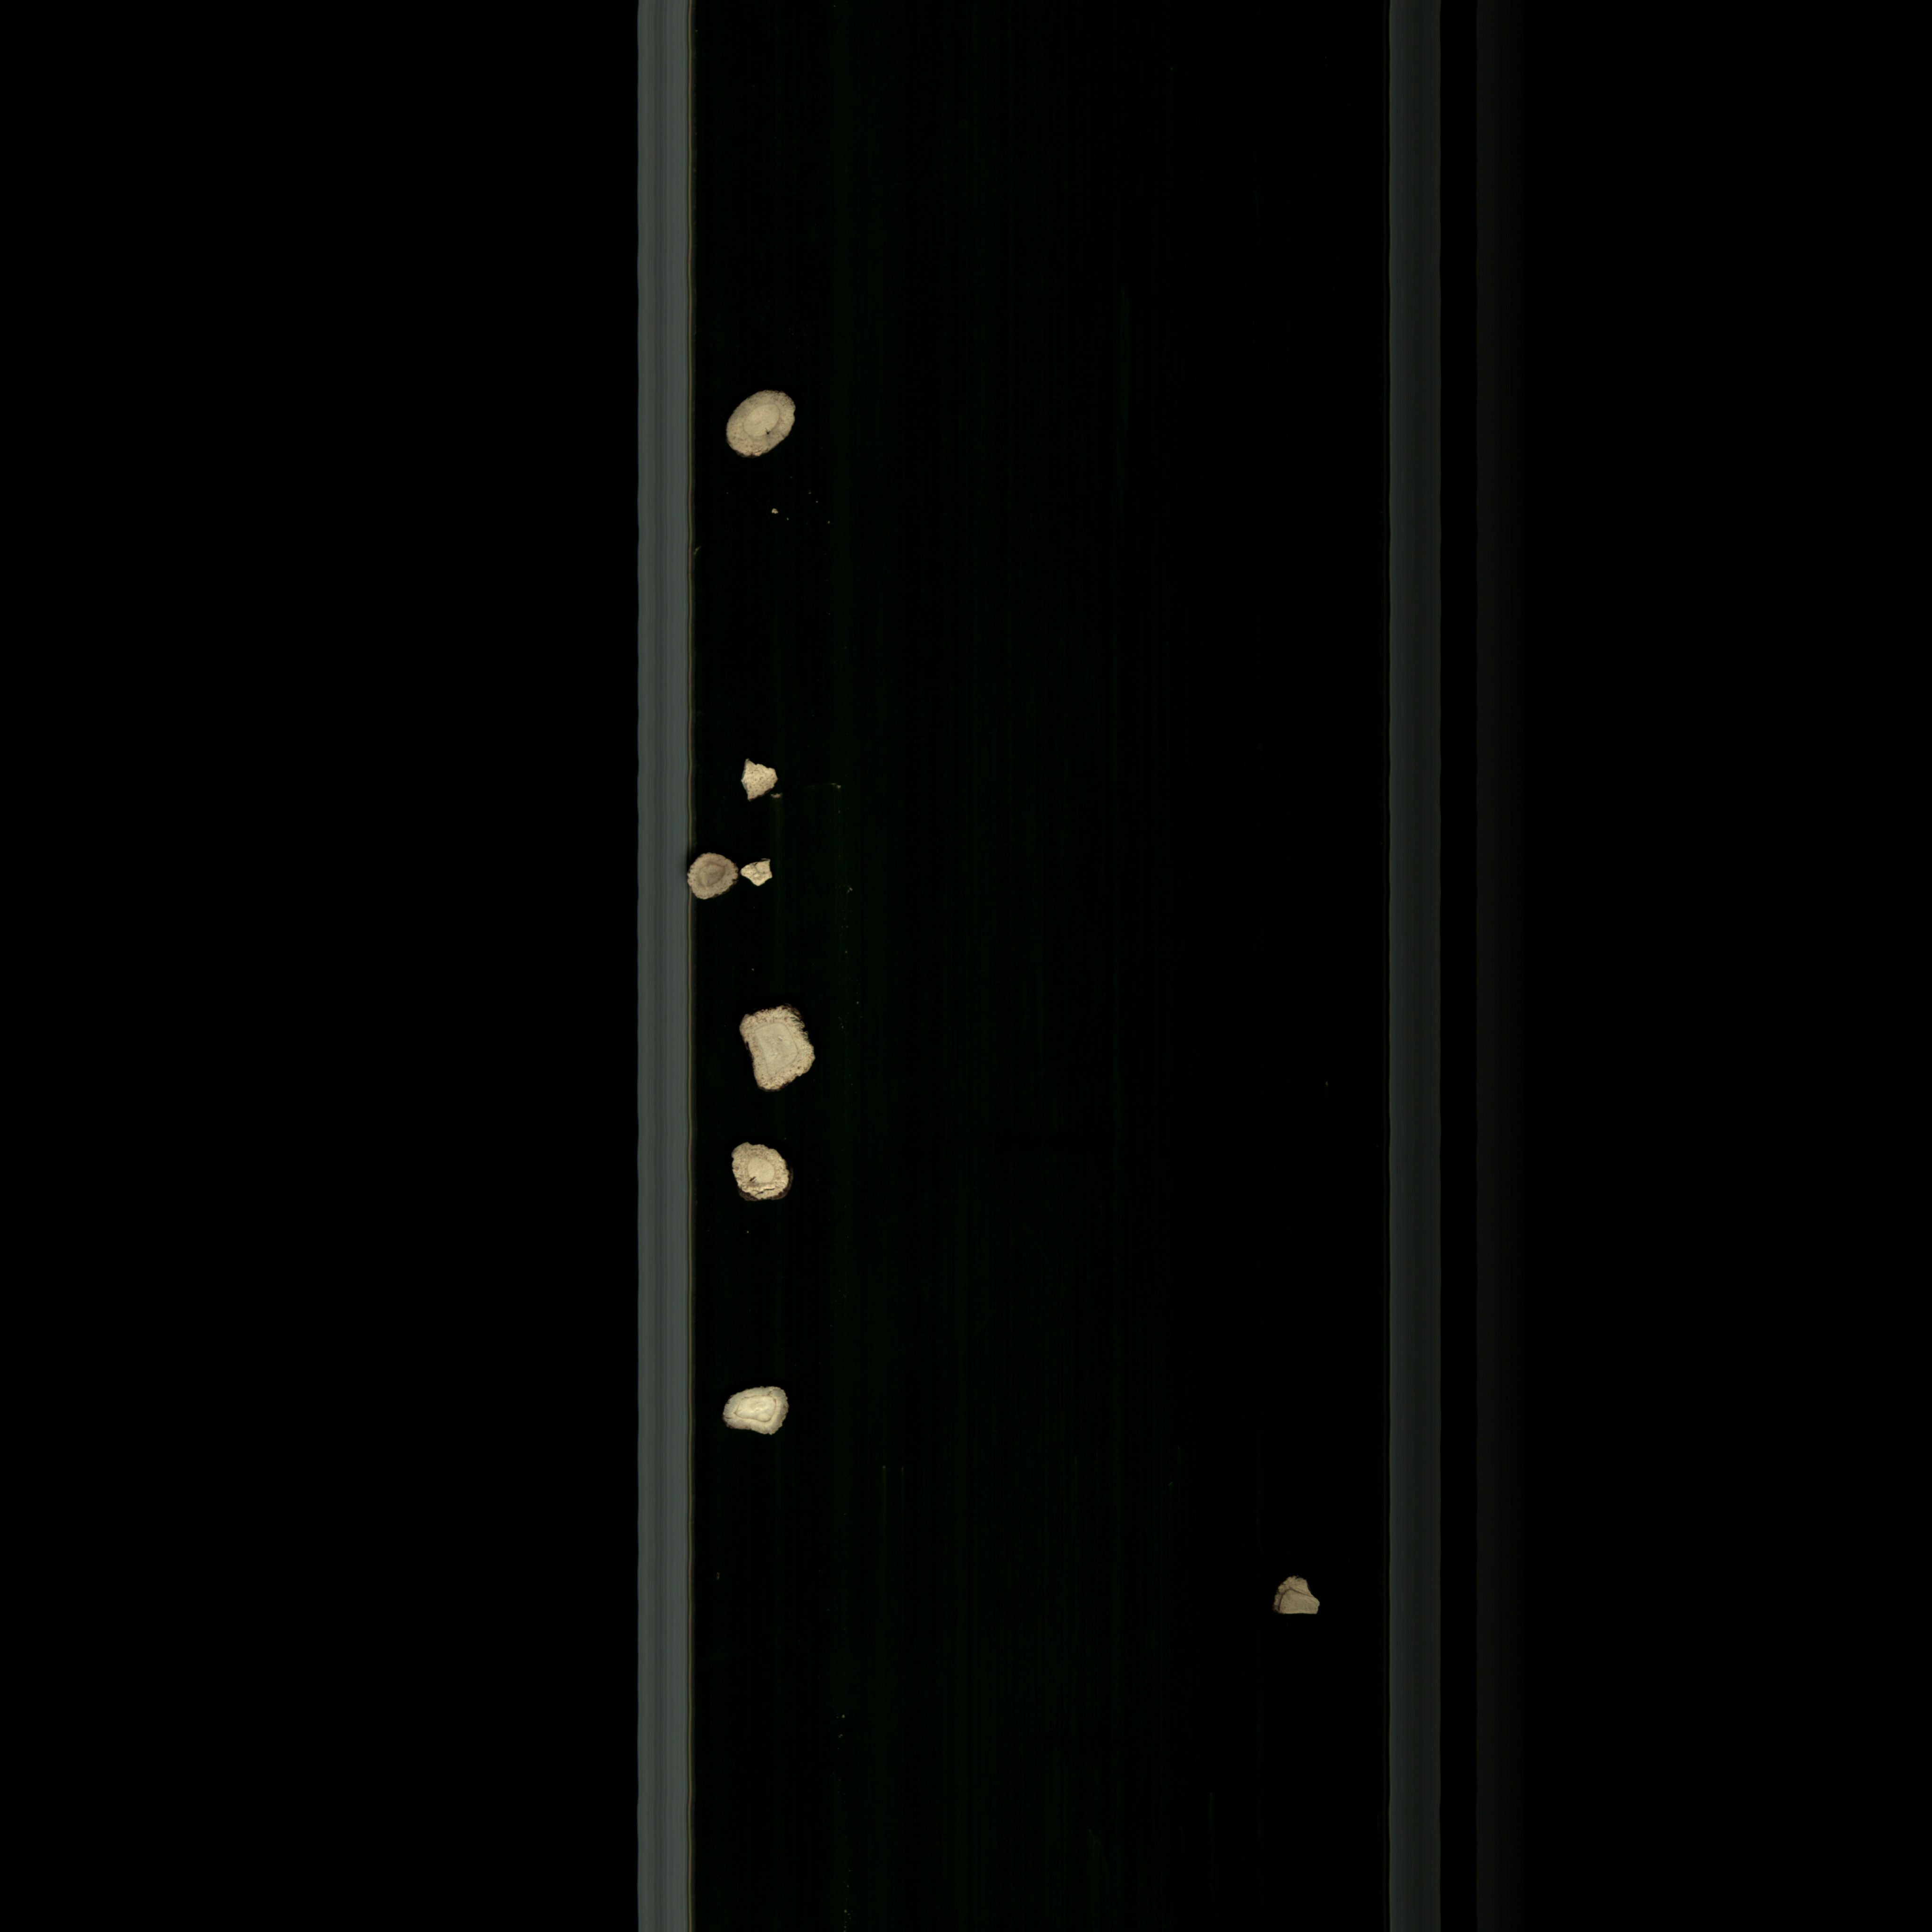distortion: (731, 1000, 832, 1102), (718, 1380, 796, 1444)
dreg: (729, 750, 787, 803), (1260, 1578, 1322, 1628), (736, 855, 784, 893)
hole: (725, 1132, 801, 1214)
moldy: (681, 846, 741, 909)
